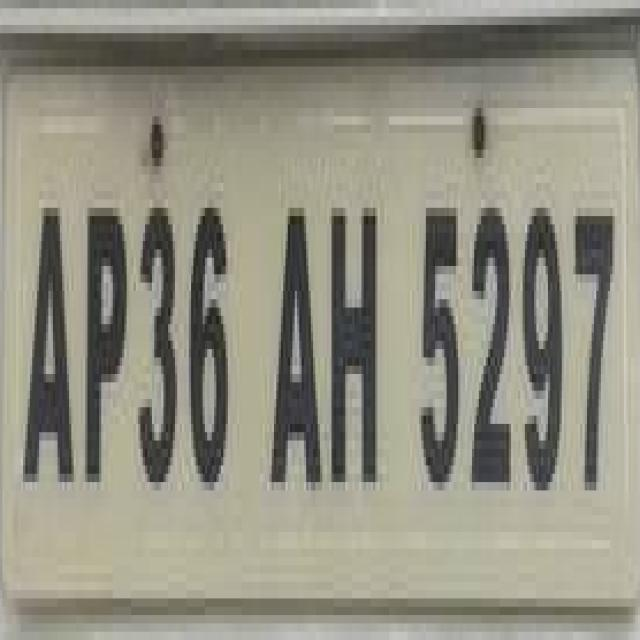license_plate: (23, 0, 640, 590)
